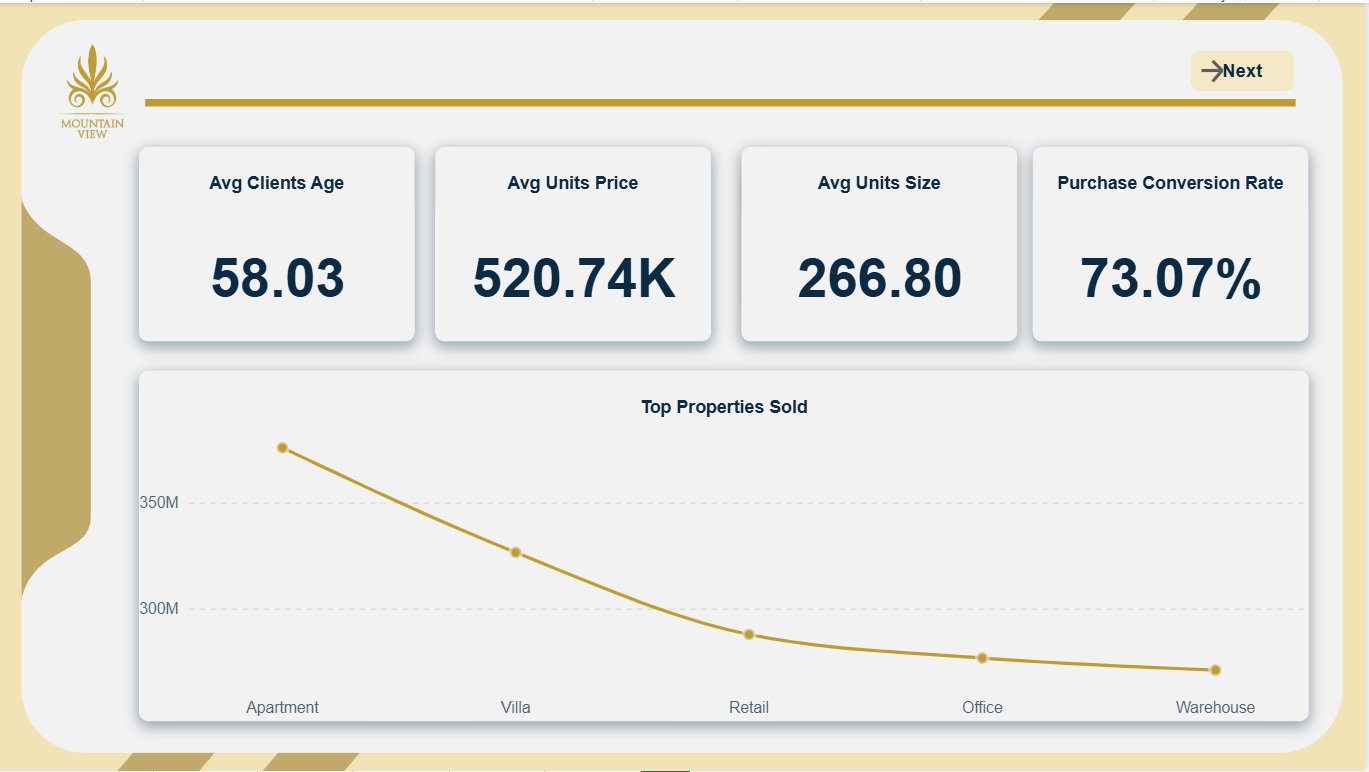

This screenshot's page, from the dashboard's own definition file:
{"tool":"powerbi","page":{"name":"Page 2","canvas":[1280,720],"ordinal":2},"visuals":[{"type":"cardVisual","title":"Avg Units Price","fields":{"Data":["Key Measure.Average Units Price"]},"box":[408.8,135,258.1,182.1],"z":0},{"type":"cardVisual","title":"Purchase Conversion Rate","fields":{"Data":["Key Measure.Customer Purchase Conversion Rate"]},"box":[969.7,135,258.1,182.1],"z":1000},{"type":"cardVisual","title":"Avg Units Size","fields":{"Data":["Key Measure.Average Units Size"]},"box":[695.8,135,258.1,182.1],"z":2000},{"type":"cardVisual","title":"Avg Clients Age","fields":{"Data":["Key Measure.Average Clients Age"]},"box":[131,135,258.1,182.1],"z":3000},{"type":"image","box":[0,11.8,173,142.8],"z":4000},{"type":"actionButton","box":[1115.2,43.2,99.6,40.6],"z":5000},{"type":"lineChart","title":"Top Properties Sold","fields":{"Category":["Properties.PropertyType"],"Y":["Key Measure.Total Sales"]},"box":[131,344.6,1096.8,328.9],"z":6001}]}

Visuals, with their boxes in screenshot pixels (x1, y1, x2, y2), scaled from the page's 1280x720 canvas onto the 1369x772 screenshot:
"Avg Units Price" cardVisual: {"x1": 437, "y1": 145, "x2": 713, "y2": 340}
"Purchase Conversion Rate" cardVisual: {"x1": 1037, "y1": 145, "x2": 1313, "y2": 340}
"Avg Units Size" cardVisual: {"x1": 744, "y1": 145, "x2": 1020, "y2": 340}
"Avg Clients Age" cardVisual: {"x1": 140, "y1": 145, "x2": 416, "y2": 340}
image: {"x1": 0, "y1": 13, "x2": 185, "y2": 166}
actionButton: {"x1": 1193, "y1": 46, "x2": 1299, "y2": 90}
"Top Properties Sold" lineChart: {"x1": 140, "y1": 369, "x2": 1313, "y2": 722}
